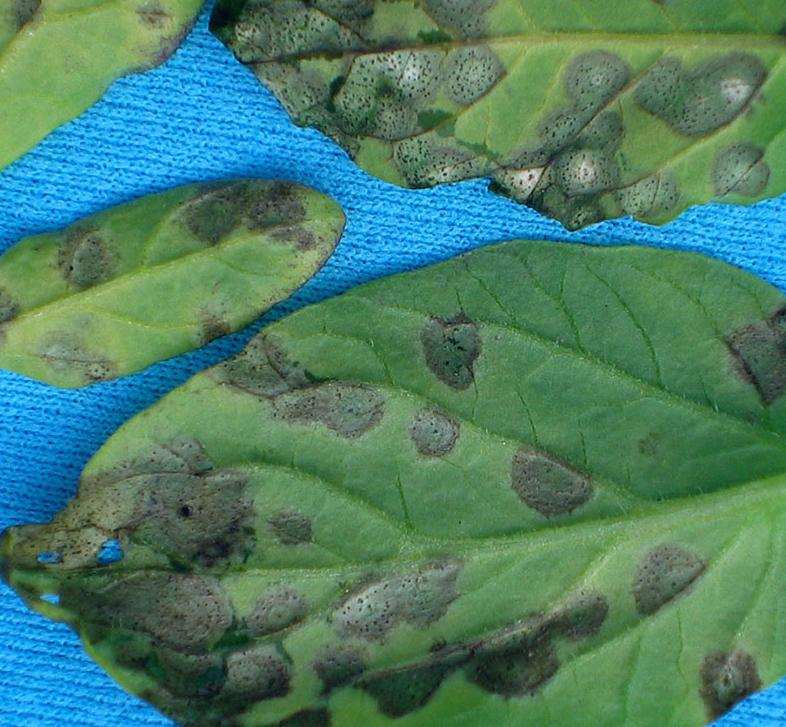Tomato Septoria leaf spot: (0, 233, 786, 727), (185, 0, 786, 232), (0, 171, 359, 394), (0, 0, 206, 230)
